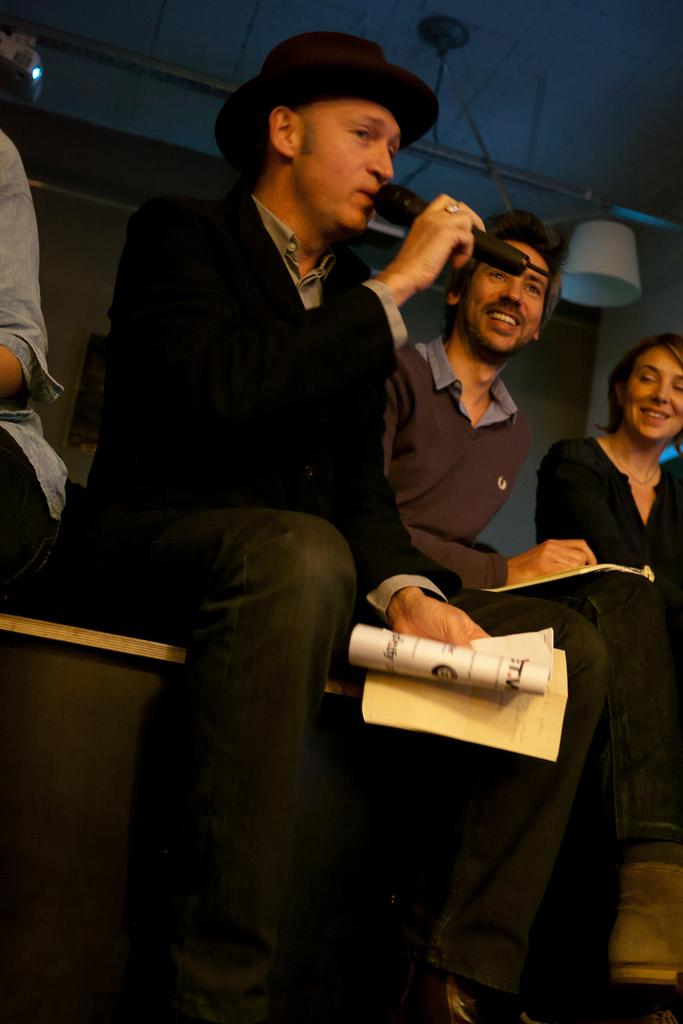Hat: (208, 16, 444, 172)
